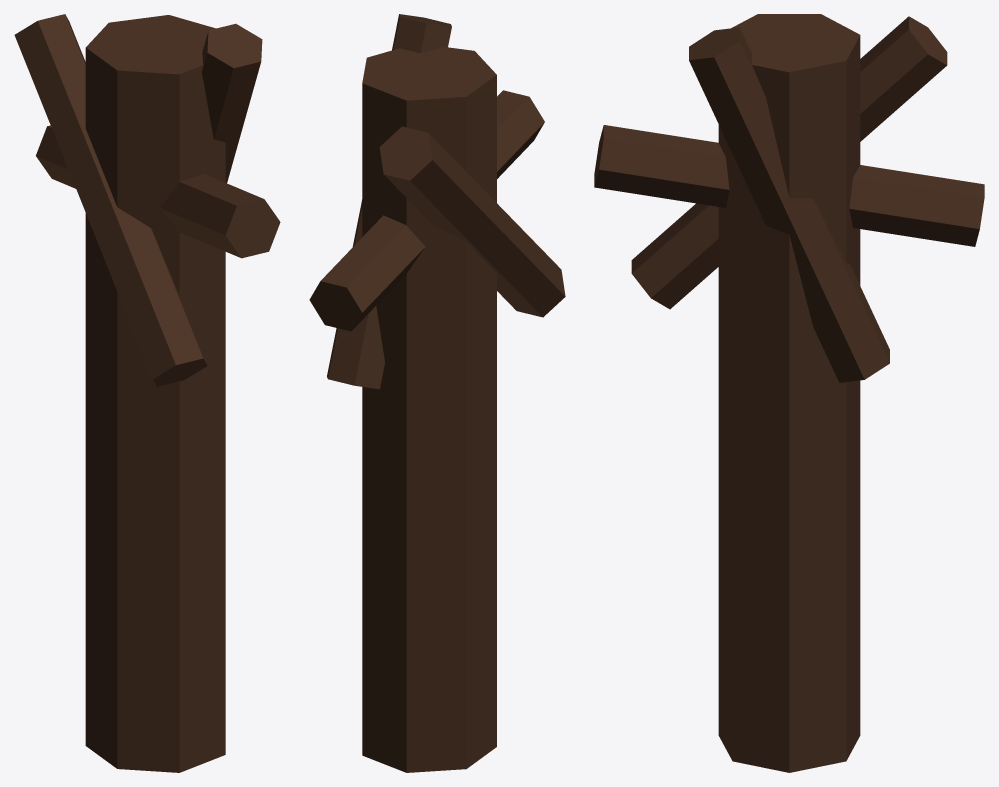
The model's file is dead-tree.obj.
3 views of the same model, side by side, from view 1: azimuth 30°, elevation 25°; view 2: azimuth 150°, elevation 25°; view 3: azimuth 270°, elevation 25° (orthographic). The views are drawn at different scales.
Visible parts, largest first — view 1: dead-tree_0, dead-tree_1, dead-tree_3, dead-tree_2; view 2: dead-tree_0, dead-tree_1, dead-tree_3, dead-tree_2; view 3: dead-tree_0, dead-tree_2, dead-tree_3, dead-tree_1.
Boxes of the visible parts, box(x1,y1,x2,y2) form: dead-tree_0: box(85, 15, 225, 772); dead-tree_1: box(14, 14, 207, 386); dead-tree_3: box(36, 125, 280, 258); dead-tree_2: box(202, 23, 262, 183); dead-tree_0: box(362, 47, 496, 772); dead-tree_1: box(379, 126, 565, 317); dead-tree_3: box(309, 90, 544, 331); dead-tree_2: box(327, 14, 451, 389); dead-tree_0: box(718, 14, 860, 772); dead-tree_2: box(689, 27, 889, 382); dead-tree_3: box(594, 125, 984, 246); dead-tree_1: box(631, 16, 947, 309).
Bounding box in the file's own units: 0.36 × 1.77 × 0.8582.
